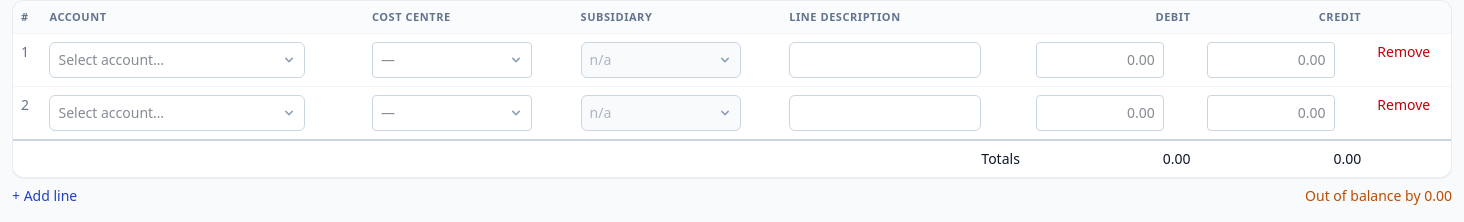
Test case: LinesEditor › finds an account by typing any part of its code or name
This screenshot has width=1464, height=222.
Step 1. Type "cash bank" into the dropdown named "Line 1 account" → [178, 60], box [50,42,306,78]
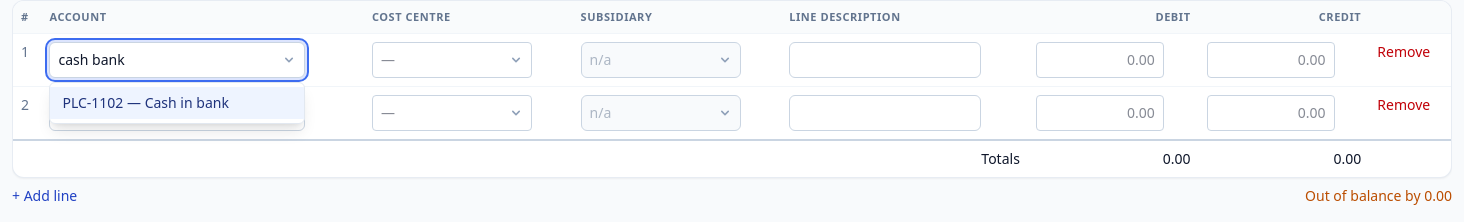
Now the options read "PLC-1102 — Cash in bank", in this order, box [50,87,304,119]
Step 2. Press Enter
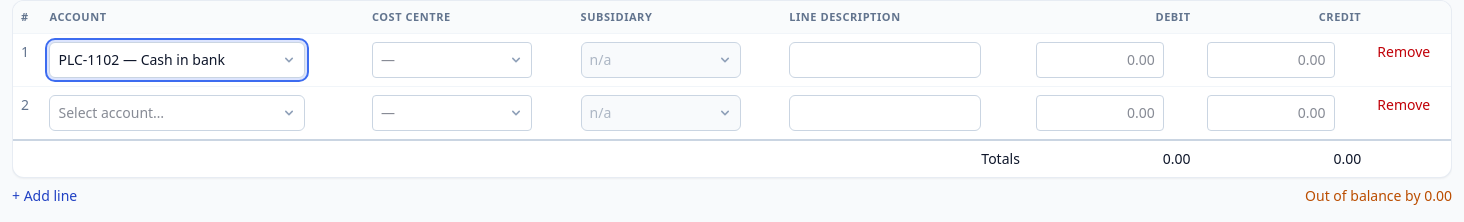
Now the dropdown named "Line 1 account" holds "PLC-1102 — Cash in bank", box [50,42,306,78]
Now the list is gone
